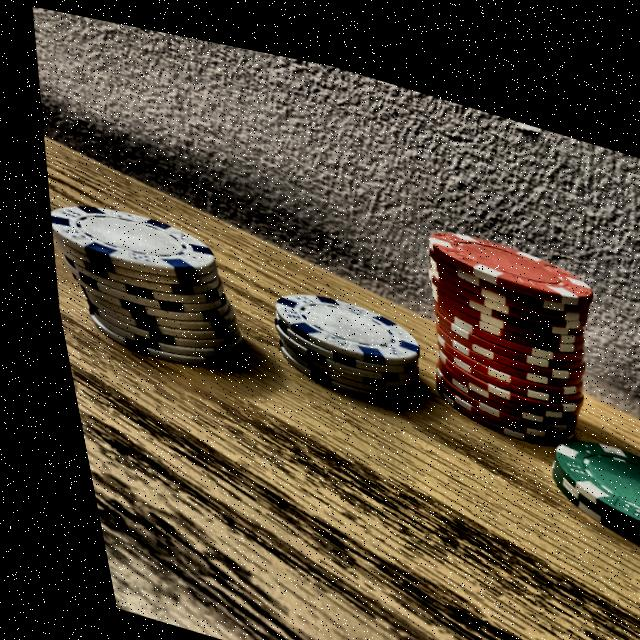Chip: (382, 178, 628, 470), (32, 161, 266, 400), (241, 253, 434, 416), (515, 397, 640, 553)
